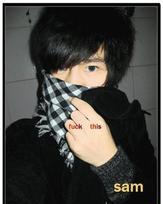WRONG: (44, 59, 107, 122)
